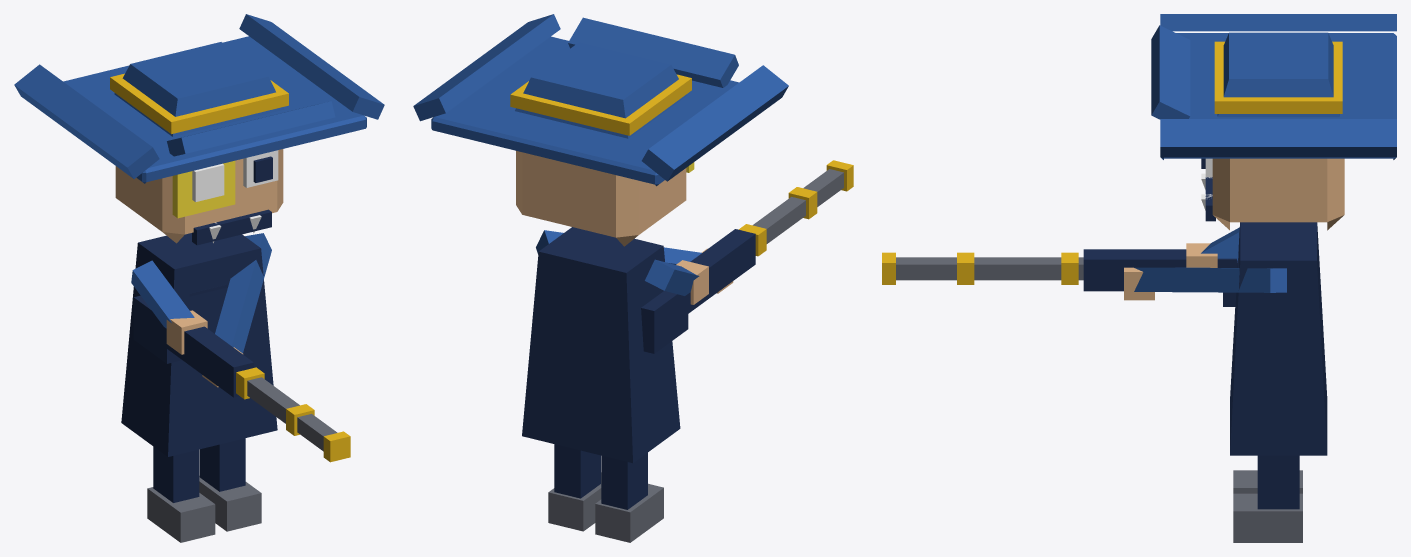
The model's file is sniper_enemy_r13.glb.
The picture shows the model from 3 angles, left to right: view 1: azimuth 30°, elevation 25°; view 2: azimuth 150°, elevation 25°; view 3: azimuth 270°, elevation 25°; orthographic projection. The views are drawn at different scales.
Visible parts, largest first — view 1: sniper_enemy_r13_mesh; view 2: sniper_enemy_r13_mesh; view 3: sniper_enemy_r13_mesh.
Part boxes in pixels (x1=…): sniper_enemy_r13_mesh: x1=14, y1=14, x2=384, y2=542; sniper_enemy_r13_mesh: x1=413, y1=14, x2=853, y2=542; sniper_enemy_r13_mesh: x1=882, y1=14, x2=1396, y2=542.
Bounding box in the file's own units: 1.02 × 1.7 × 1.7.
Materials: 1 (1 with a texture image).
